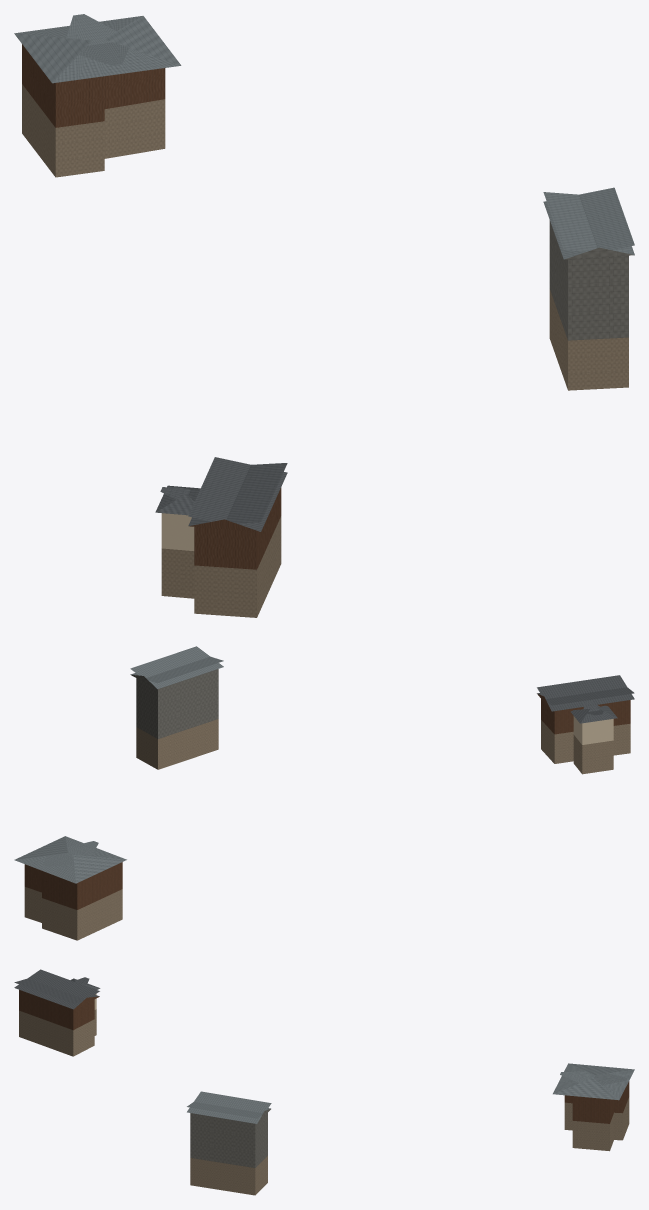
The model's file is bld_c2_17_467.gltf.
The picture shows the model from 3 angles, top to bottom: view 1: azimuth 30°, elevation 25°; view 2: azimuth 150°, elevation 25°; view 3: azimuth 270°, elevation 25°; orthographic projection. The views are drawn at different scales.
Parts seen in each view (by area): view 1: bld_c2_17_467; view 2: bld_c2_17_467; view 3: bld_c2_17_467.
Boxes of the visible parts, <box> form: bld_c2_17_467: <box>14,14,634,617</box>; bld_c2_17_467: <box>14,646,634,940</box>; bld_c2_17_467: <box>14,969,634,1195</box>.
Size of the model in its own units: 66.88 by 14.7 by 105.
8 materials, 8 textured.
